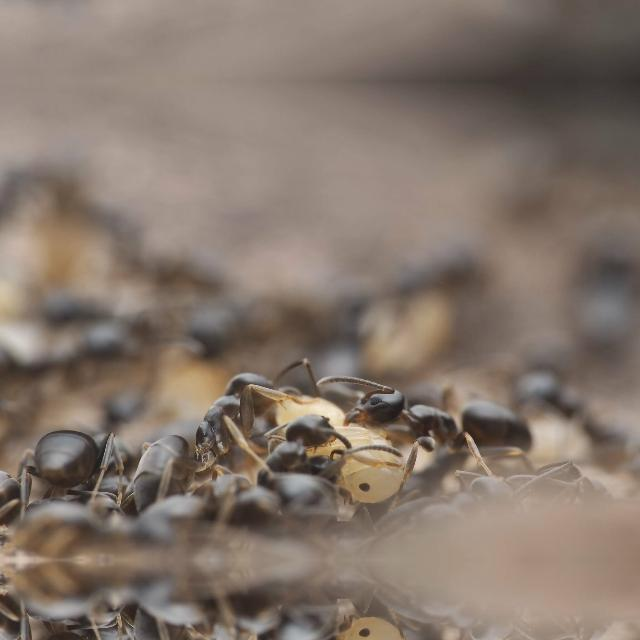Tapinoma: (342, 356, 554, 482), (0, 402, 156, 526), (154, 362, 270, 504), (222, 402, 340, 526), (0, 590, 156, 640), (222, 592, 338, 640)
